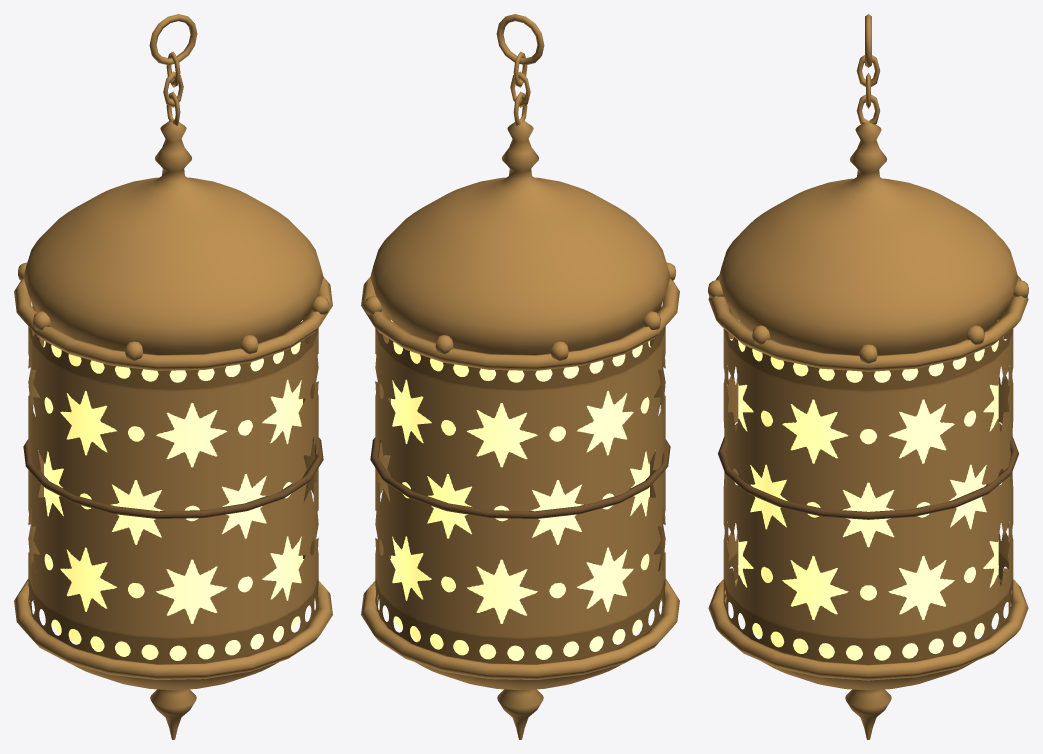
File: prop-lantern-dome.glb
3 views of the same model, side by side, from view 1: azimuth 30°, elevation 25°; view 2: azimuth 150°, elevation 25°; view 3: azimuth 270°, elevation 25° (orthographic).
Parts seen in each view (by area): view 1: piece_BrassPierced, piece_Brass, piece_LampGlass, piece_BrassDark; view 2: piece_BrassPierced, piece_Brass, piece_LampGlass, piece_BrassDark; view 3: piece_BrassPierced, piece_Brass, piece_LampGlass, piece_BrassDark.
Boxes of the visible parts, x1,y1,x2,y2 form: piece_BrassPierced: (28, 305, 318, 664); piece_Brass: (14, 14, 332, 739); piece_LampGlass: (44, 320, 302, 660); piece_BrassDark: (23, 437, 323, 518); piece_BrassPierced: (375, 305, 665, 664); piece_Brass: (361, 14, 679, 739); piece_LampGlass: (391, 320, 649, 660); piece_BrassDark: (370, 437, 670, 518); piece_BrassPierced: (723, 307, 1013, 664); piece_Brass: (708, 14, 1028, 739); piece_LampGlass: (738, 320, 998, 660); piece_BrassDark: (718, 423, 1018, 519).
Bounding box in the file's own units: 0.19 × 0.4683 × 0.1884.
Materials: 4 (1 with a texture image).
